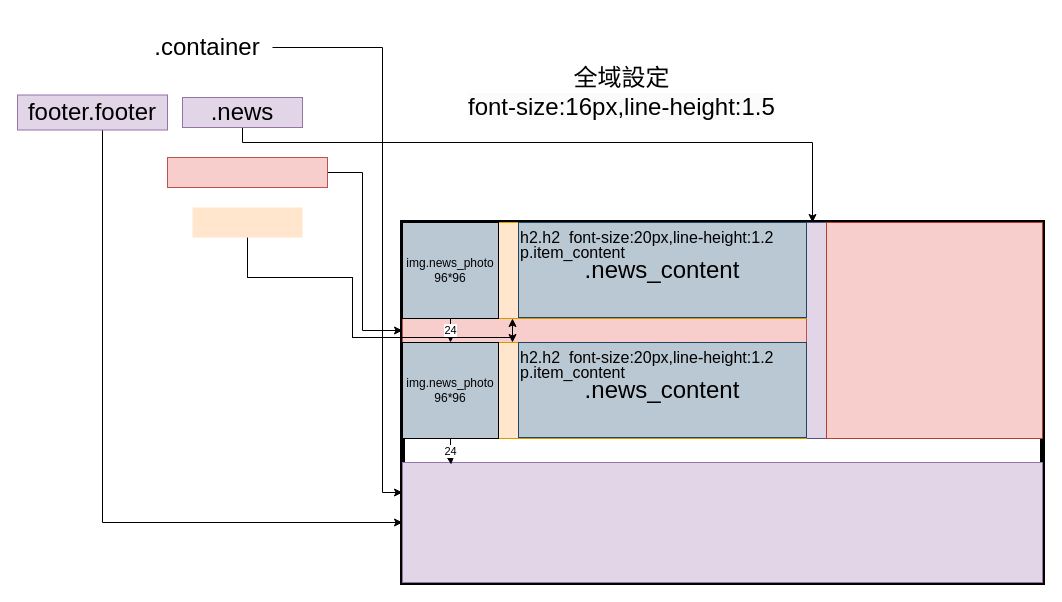
This 1062x602 diagram has some shape labels left out. The shapes that lost their labels are listed below. From the top down, each one's centre as x and y in pixels, then its label:
At [247,172]: "ul.news_item".
At [247,222]: "li".
At [934,330]: "img.ad_photo 216*216".
At [722,522]: "p 表尾文字(置中)".
